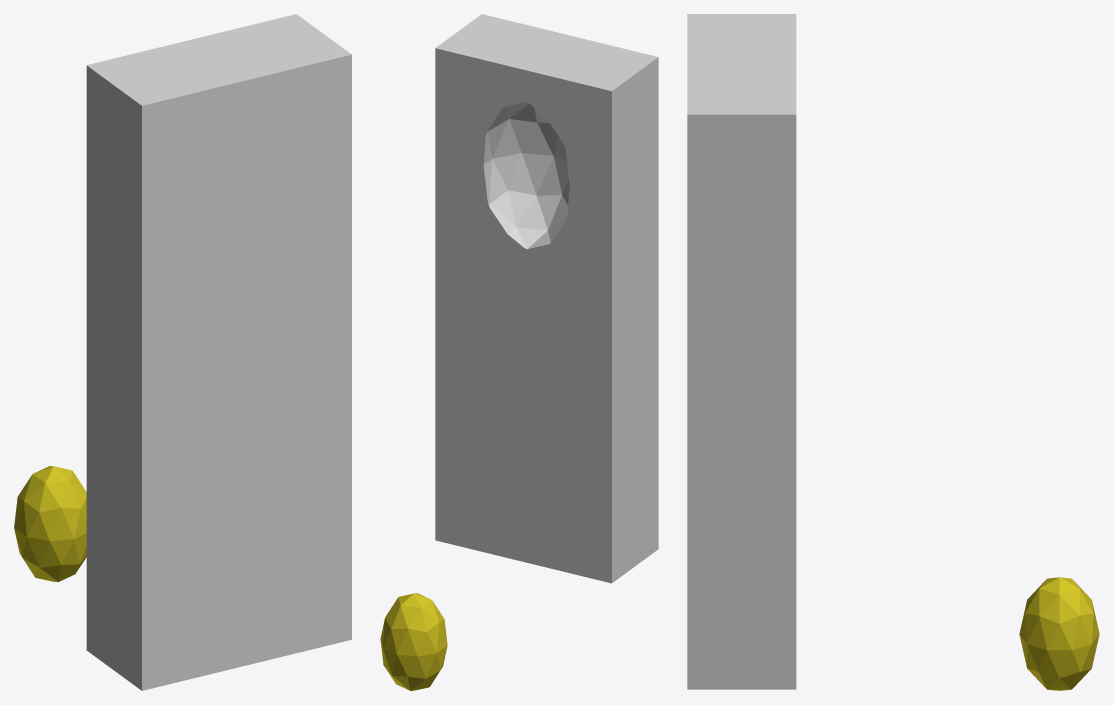
Rendered from uovo e colonna.fbx.
3 renders of one model, left to right at view 1: azimuth 30°, elevation 25°; view 2: azimuth 150°, elevation 25°; view 3: azimuth 270°, elevation 25°, orthographic. The views are drawn at different scales.
Parts seen in each view (by area): view 1: colonna, uovo; view 2: colonna, trigger colonna, uovo; view 3: colonna, uovo.
Boxes of the visible parts, bbox=[...] form: colonna: bbox=[86, 14, 351, 690]; uovo: bbox=[14, 466, 86, 582]; colonna: bbox=[435, 14, 658, 583]; trigger colonna: bbox=[483, 102, 569, 248]; uovo: bbox=[380, 593, 447, 690]; colonna: bbox=[687, 14, 796, 689]; uovo: bbox=[1019, 577, 1099, 690].
Bounding box in the file's own units: 634 × 1846 × 1097.
